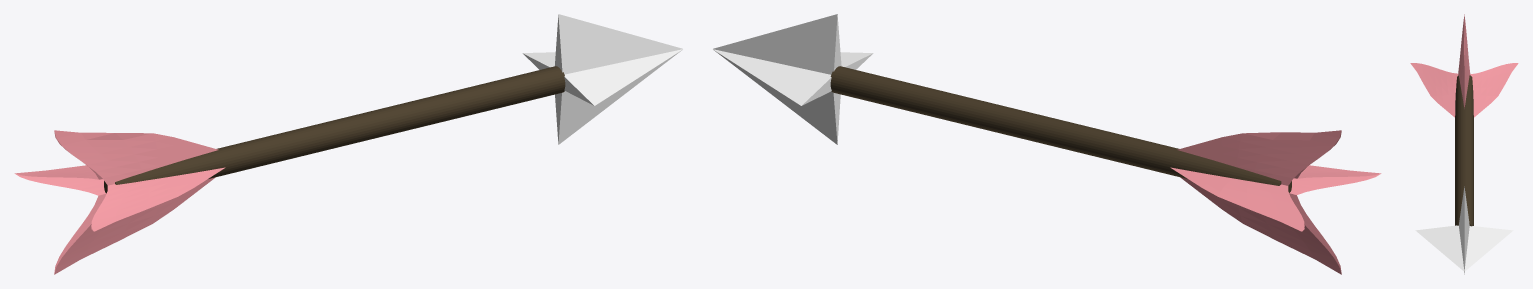
File: ArrowPackage.fbx
3 views of the same model, side by side, from view 1: azimuth 30°, elevation 25°; view 2: azimuth 150°, elevation 25°; view 3: azimuth 270°, elevation 25° (orthographic). The views are drawn at different scales.
Visible parts, largest first — view 1: Feather, Stick, MetalPoint; view 2: Feather, Stick, MetalPoint; view 3: Feather, MetalPoint, Stick.
Boxes of the visible parts, bbox=[...] form: Feather: bbox=[14, 130, 225, 274]; Stick: bbox=[104, 66, 565, 193]; MetalPoint: bbox=[522, 14, 683, 144]; Feather: bbox=[1170, 130, 1381, 274]; Stick: bbox=[830, 66, 1291, 192]; MetalPoint: bbox=[712, 14, 873, 144]; Feather: bbox=[1410, 14, 1518, 117]; MetalPoint: bbox=[1415, 186, 1513, 274]; Stick: bbox=[1455, 75, 1473, 226].
Size of the model in its own units: 720 by 158 by 158.
